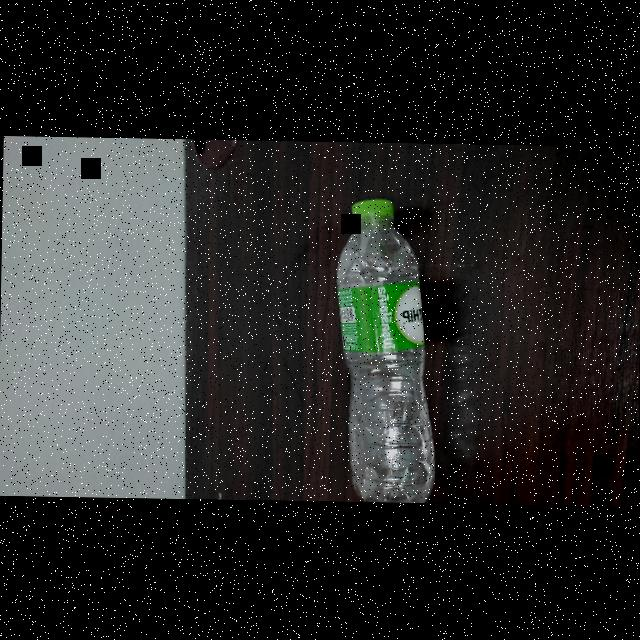plastic_bottle: (327, 186, 444, 502)
